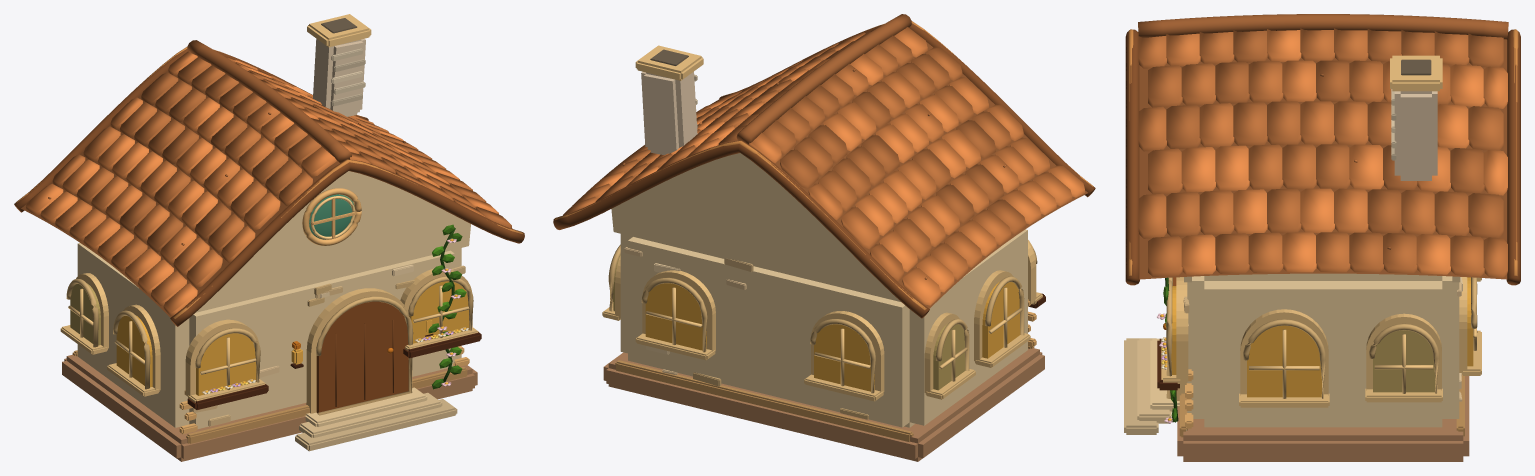
File: cottage-clay-DqfpLPxm.glb
The picture shows the model from 3 angles, left to right: view 1: azimuth 30°, elevation 25°; view 2: azimuth 150°, elevation 25°; view 3: azimuth 270°, elevation 25°; orthographic projection. The views are drawn at different scales.
Parts seen in each view (by area): view 1: cottage-clay; view 2: cottage-clay; view 3: cottage-clay.
Boxes of the visible parts, box(x1,y1,x2,y2) form: cottage-clay: box(14, 14, 524, 461); cottage-clay: box(553, 14, 1095, 461); cottage-clay: box(1124, 14, 1520, 461).
Bounding box in the file's own units: 6.9 × 5.7 × 5.5.
